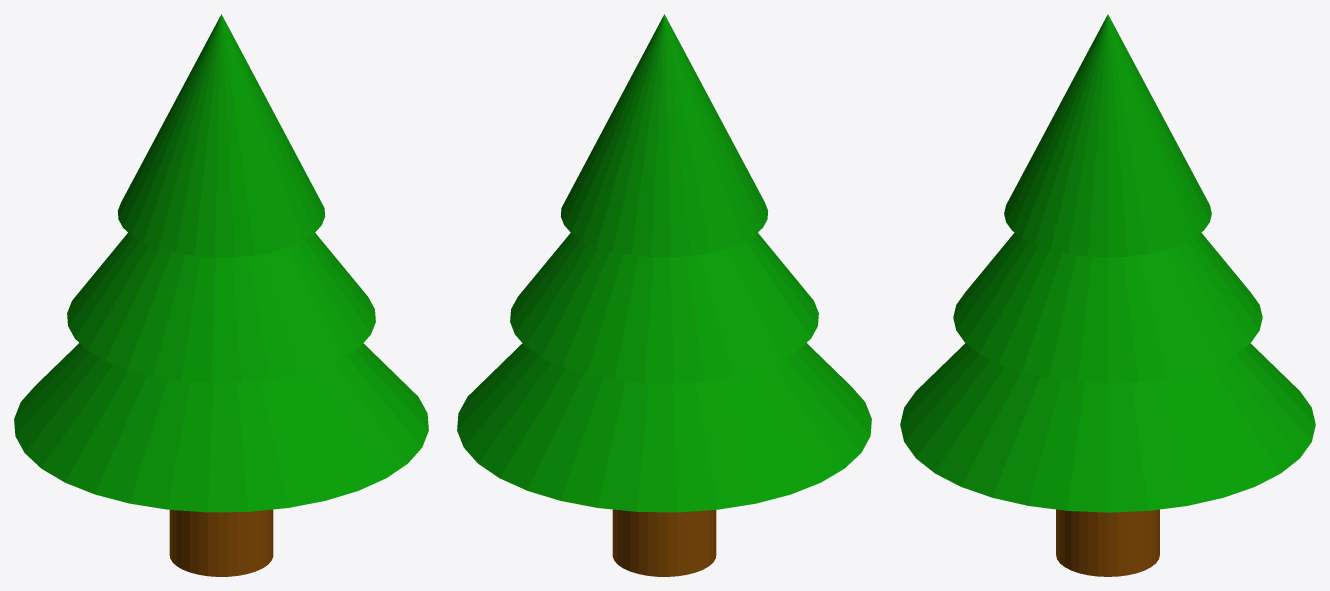
File: tree_type1.fbx
The picture shows the model from 3 angles, left to right: view 1: azimuth 30°, elevation 25°; view 2: azimuth 150°, elevation 25°; view 3: azimuth 270°, elevation 25°; orthographic projection.
Parts seen in each view (by area): view 1: treetop, treestump; view 2: treetop, treestump; view 3: treetop, treestump.
Boxes of the visible parts, bbox=[...] form: treetop: bbox=[14, 14, 428, 512]; treestump: bbox=[169, 509, 273, 576]; treetop: bbox=[457, 14, 871, 512]; treestump: bbox=[612, 509, 716, 576]; treetop: bbox=[900, 14, 1315, 512]; treestump: bbox=[1056, 509, 1159, 576].
Size of the model in its own units: 800 by 1149 by 800.
